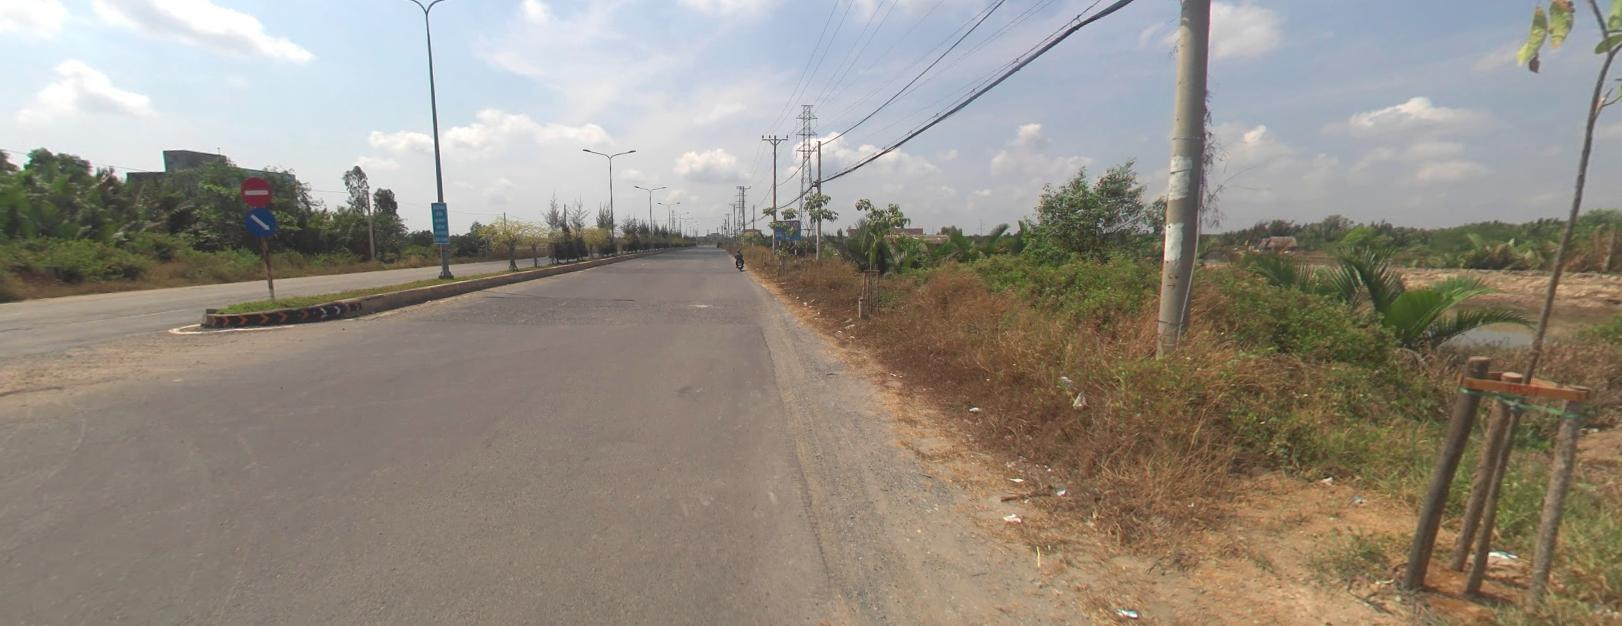Cam nguoc chieu: (240, 175, 273, 204), (241, 176, 270, 204), (241, 177, 270, 204)
Hieu lenh: (243, 206, 276, 236), (245, 207, 275, 235), (245, 206, 275, 234)
